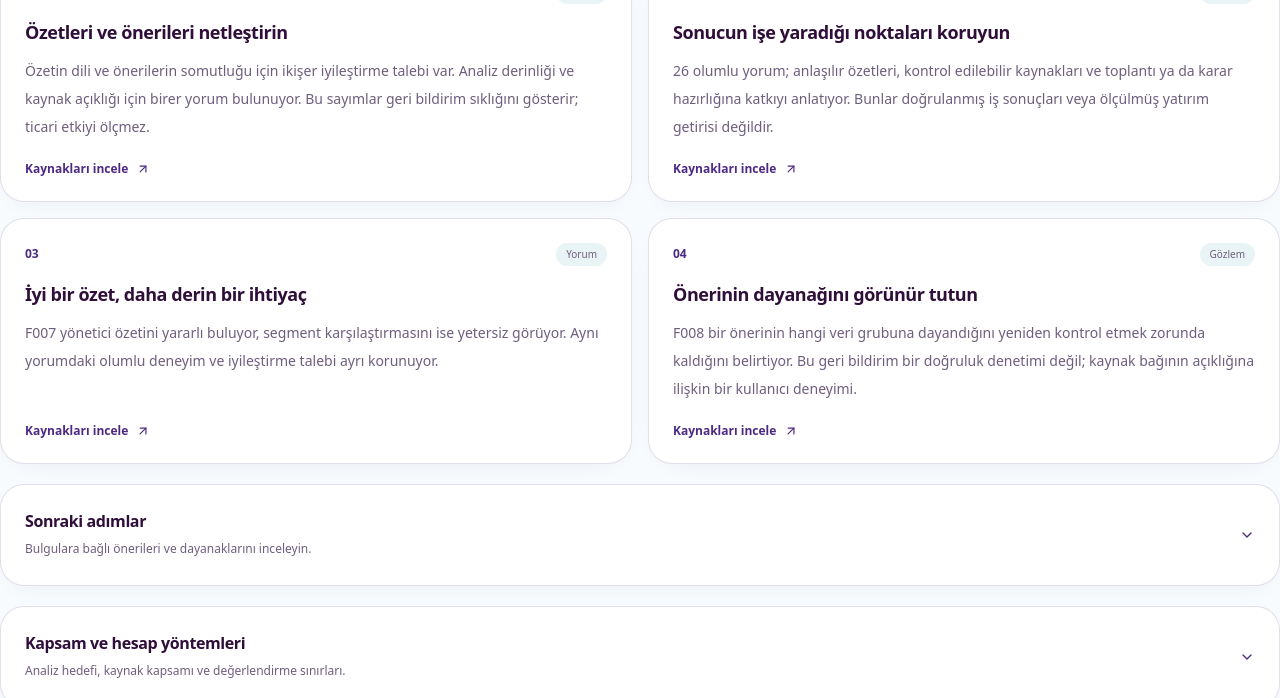
uyarlanabilir sonuç sunumu › öneriyi onu destekleyen bulguyla birleştirir ve ayrıntıları kapalı başlatır
The width and height of the screenshot is (1280, 698).
(page scrolled)
Click the heading that starts with "Sonraki adımlar". click: (86, 520)
box: [25,510,1255,556]
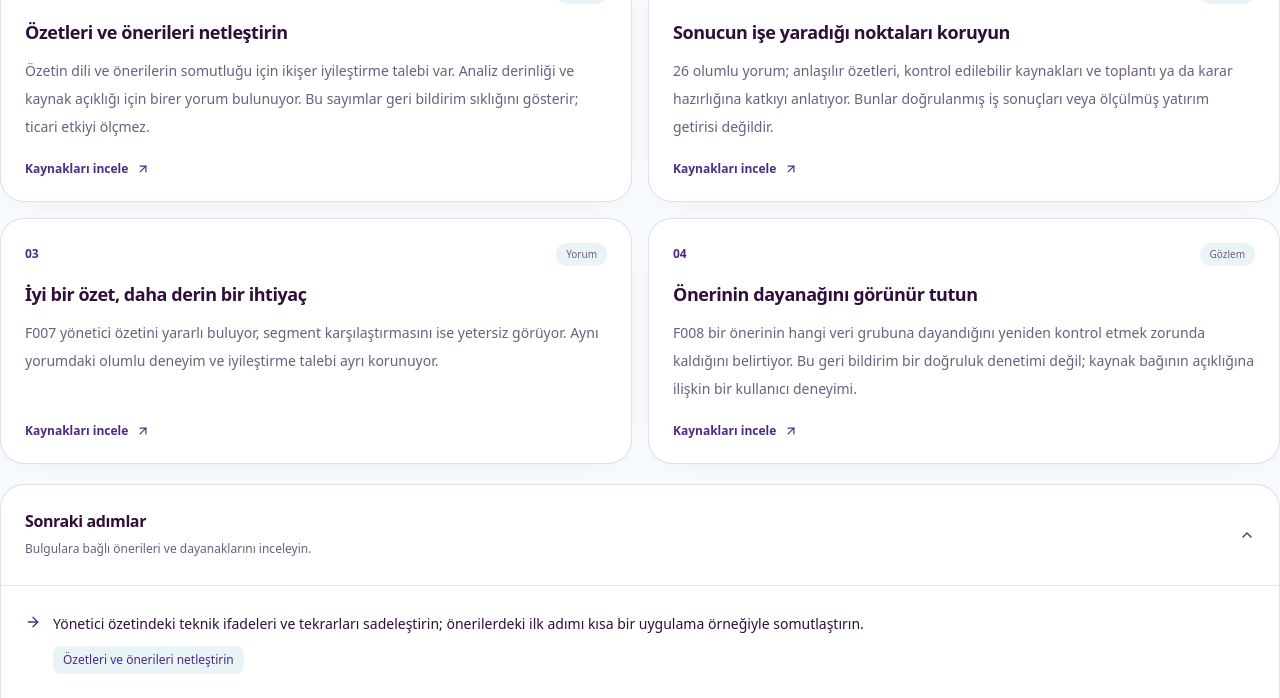
Check: the button "Özetleri ve önerileri netleştirin" is shown, box [53,646,244,674]
